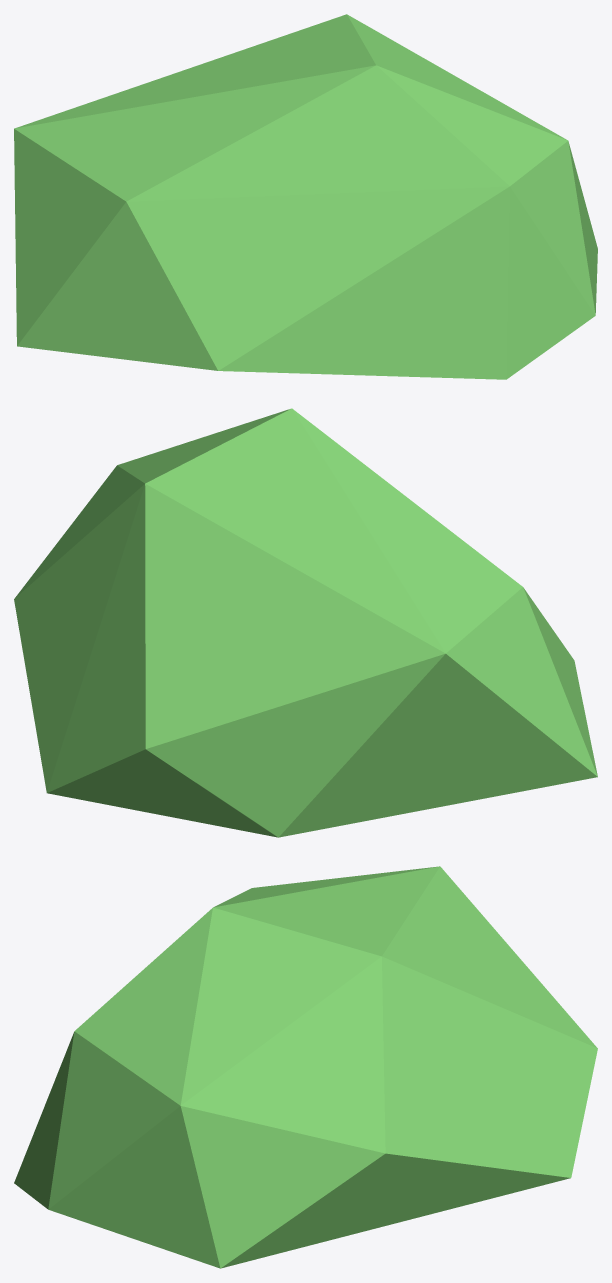
The model's file is rock2.fbx.
3 renders of one model, top to bottom at view 1: azimuth 30°, elevation 25°; view 2: azimuth 150°, elevation 25°; view 3: azimuth 270°, elevation 25°, orthographic. The views are drawn at different scales.
Parts seen in each view (by area): view 1: rock 2; view 2: rock 2; view 3: rock 2.
Part boxes in pixels (x1,y1,x2,y2): rock 2: [14, 14, 597, 379]; rock 2: [14, 408, 597, 837]; rock 2: [14, 866, 597, 1268].
Bounding box in the file's own units: 369 × 163 × 333.
